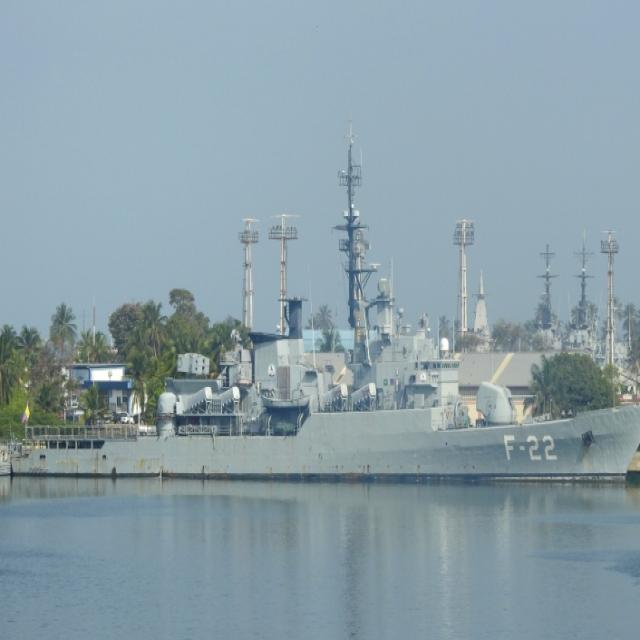Fragata: (8, 262, 640, 492)
